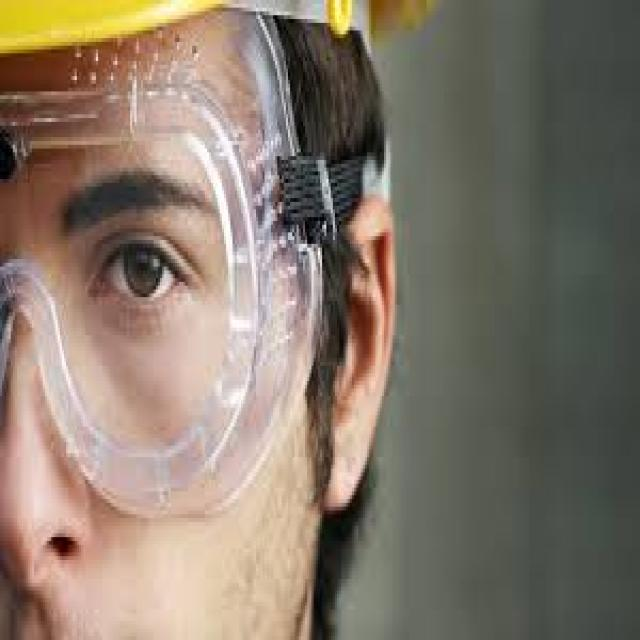glasses: (0, 17, 313, 524)
